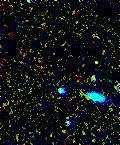star: (80, 46, 110, 76)
